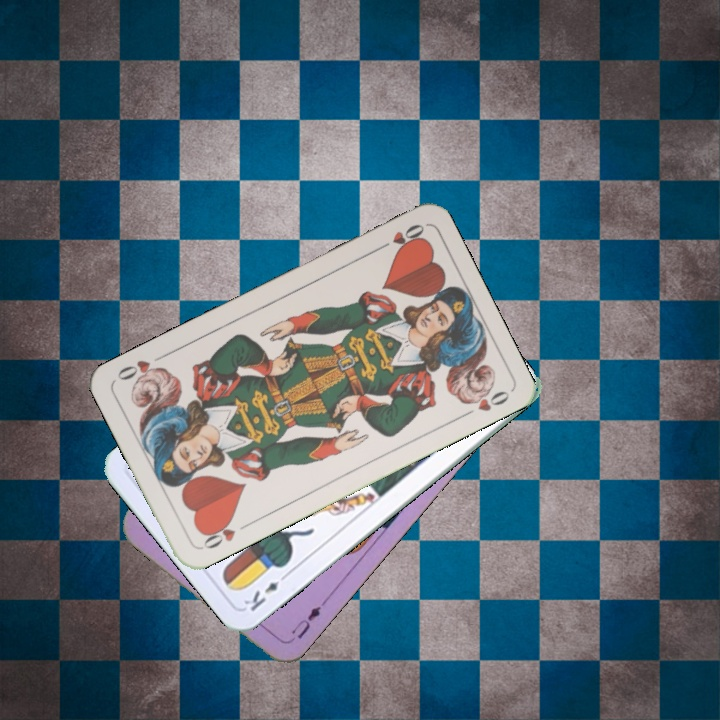EK: (239, 568, 291, 614)
EU: (286, 597, 329, 641)
HO: (197, 515, 252, 552), (372, 219, 427, 254)
